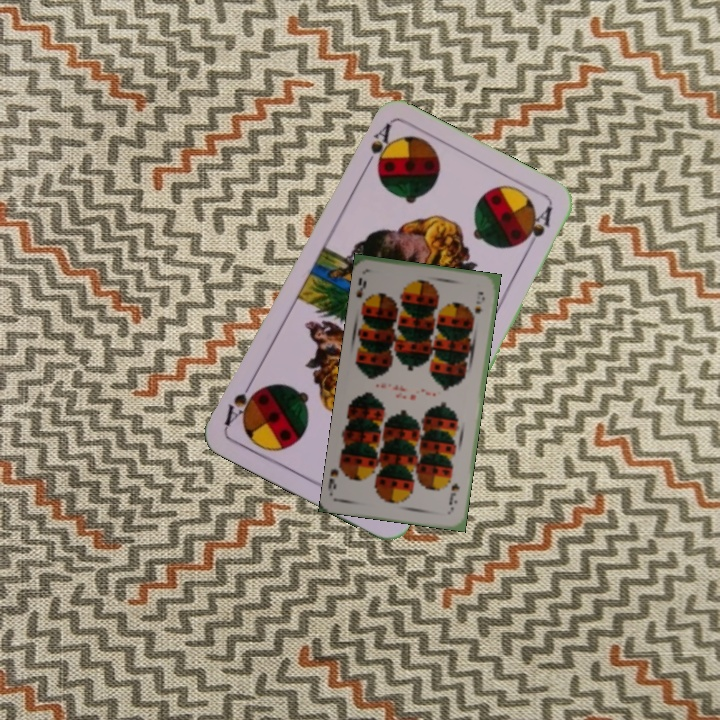S9: (352, 273, 371, 311), (444, 480, 462, 514)
SA: (358, 120, 394, 174)
